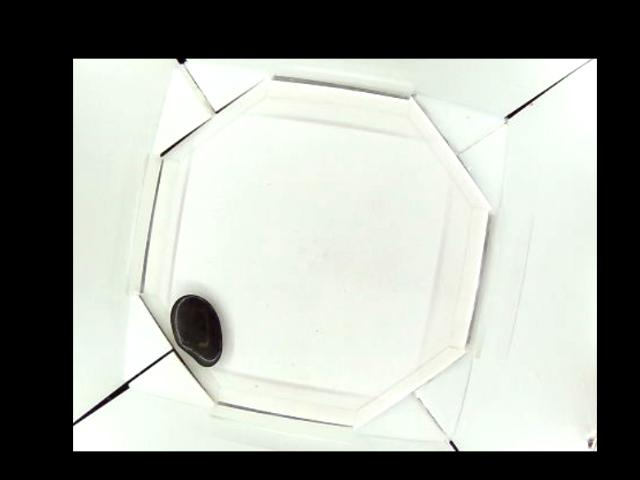Pebble: (168, 295, 224, 367)
